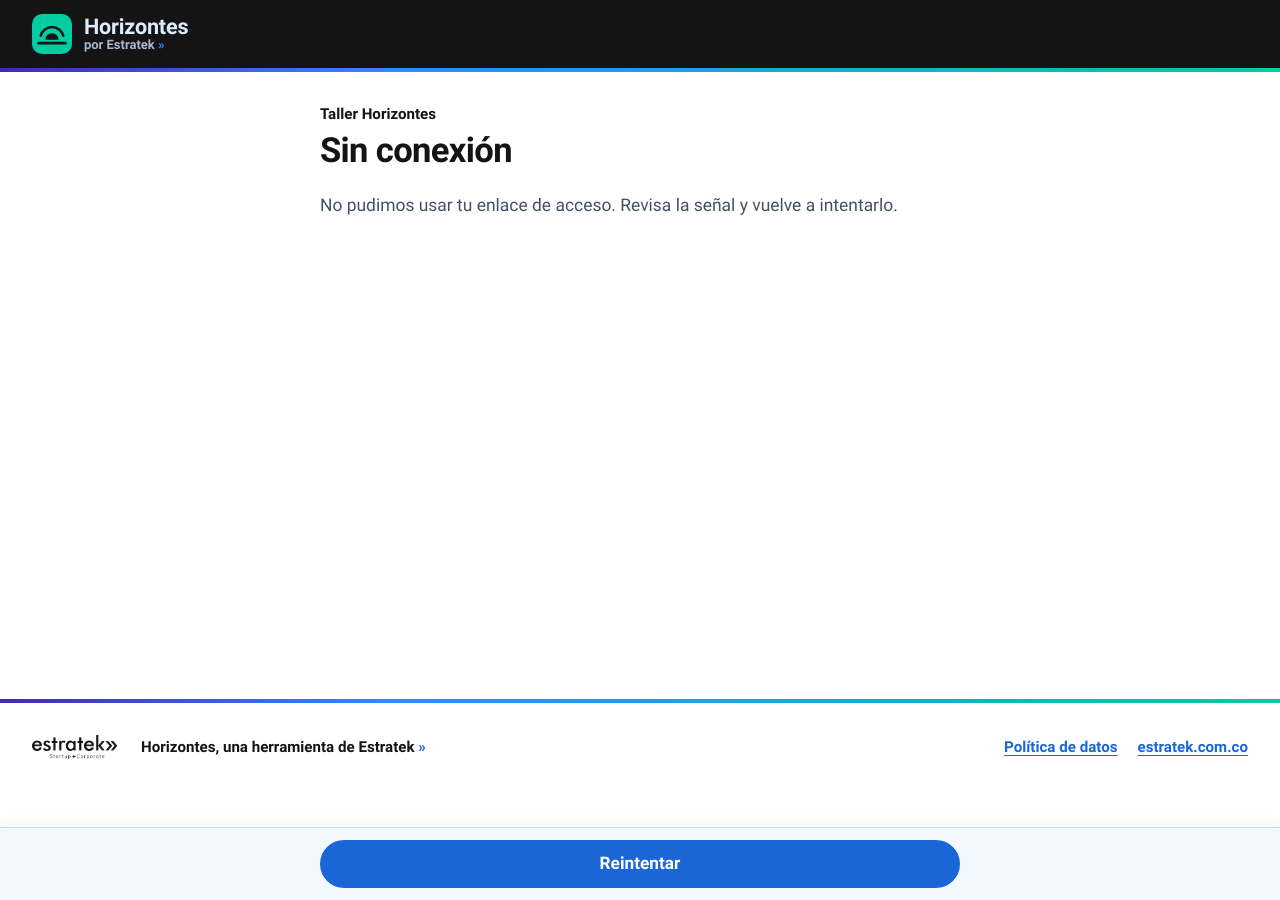
it: D1: acceso nuevo que da el facilitador › sin señal deja reintentar el canje
The image size is (1280, 900).
Expected: the heading "Sin conexión" is shown, [320,131,512,170]
Click the button "Reintentar": click(640, 864) [320,840,960,888]
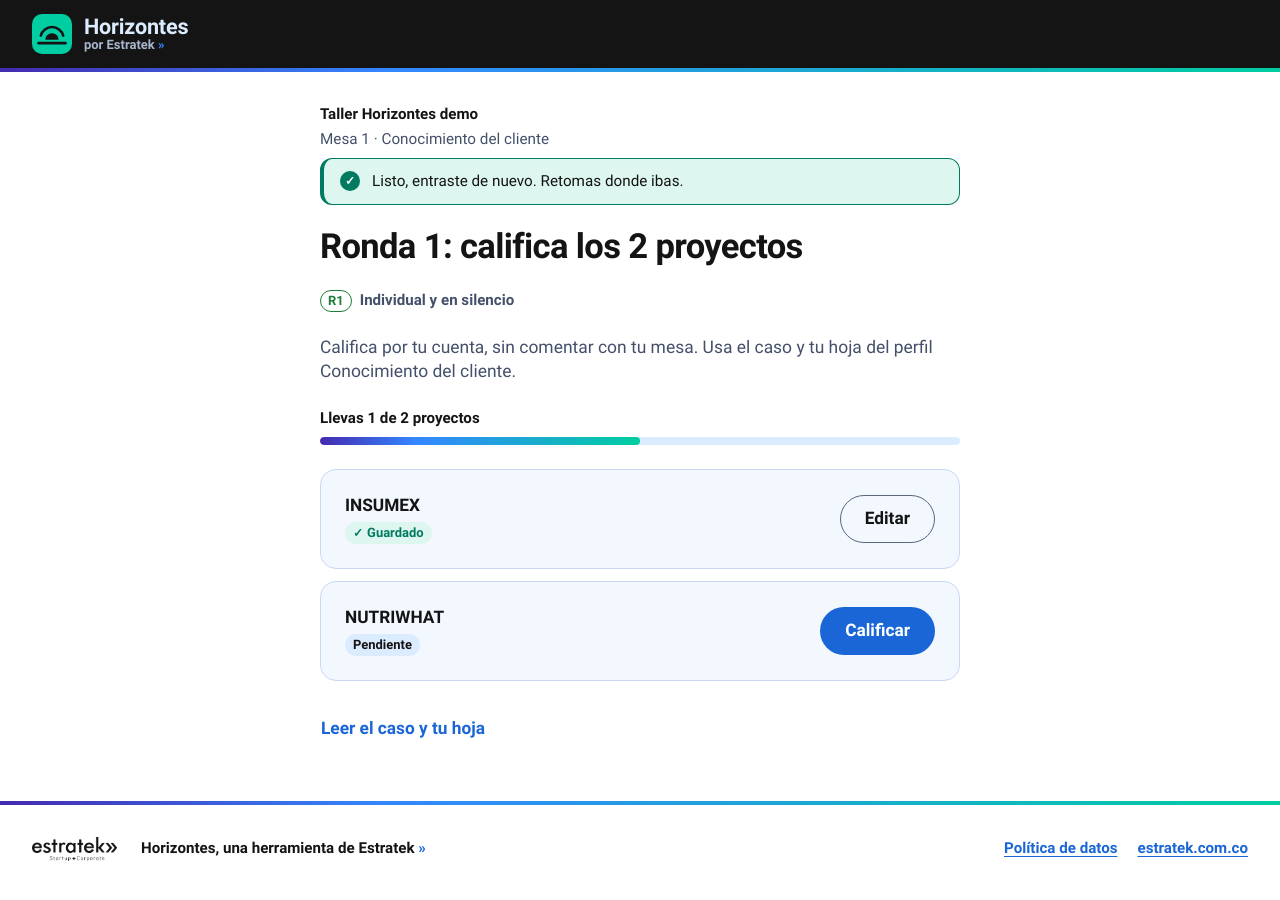
Expected: the text "Listo, entraste de nuevo. Retomas donde ibas." is shown, [372,172,684,190]
